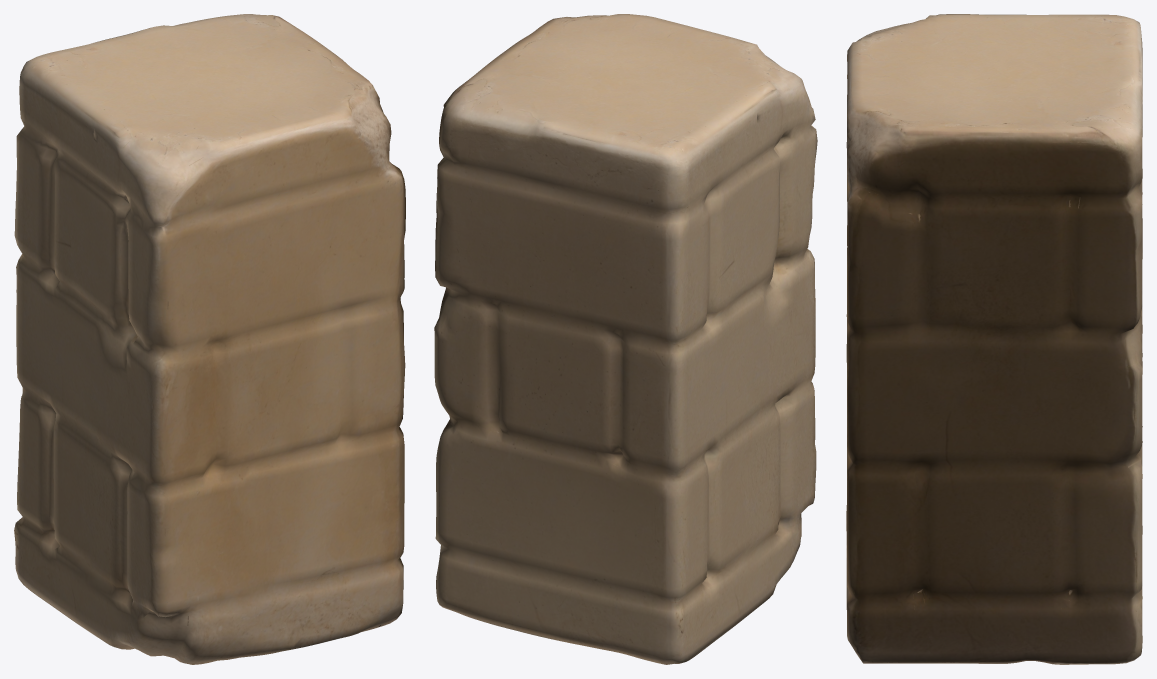
Rendered from Stone_Block_anthrop_0907142815.fbx.
3 renders of one model, left to right at view 1: azimuth 30°, elevation 25°; view 2: azimuth 150°, elevation 25°; view 3: azimuth 270°, elevation 25°, orthographic. The views are drawn at different scales.
Parts seen in each view (by area): view 1: Mesh_0; view 2: Mesh_0; view 3: Mesh_0.
Part boxes in pixels (bbox=[...]): Mesh_0: bbox=[14, 14, 405, 664]; Mesh_0: bbox=[434, 14, 817, 664]; Mesh_0: bbox=[846, 14, 1142, 664].
Bounding box in the file's own units: 101 × 200 × 101.
1 material, 1 textured.
